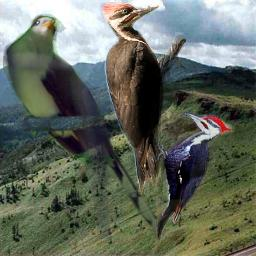Cuckoo: (3, 14, 177, 239)
Woodpecker: (100, 2, 186, 195), (156, 112, 235, 243)
